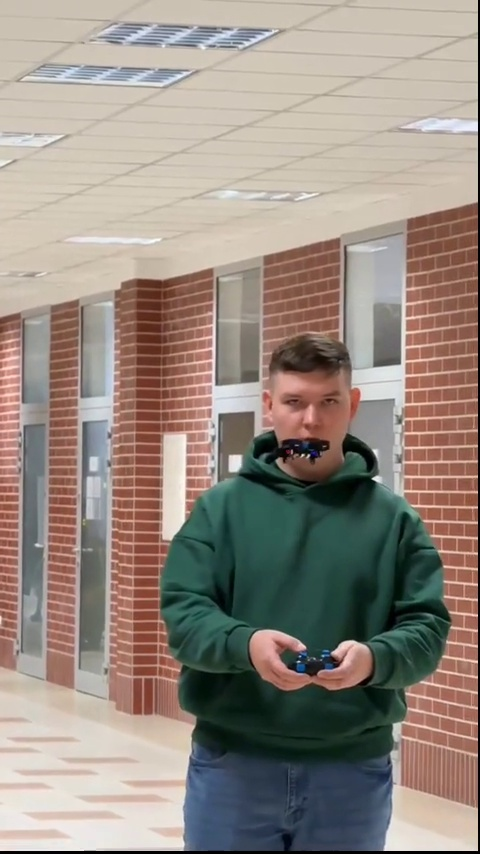drone: (278, 439, 334, 460)
no vest: (162, 342, 449, 849)
